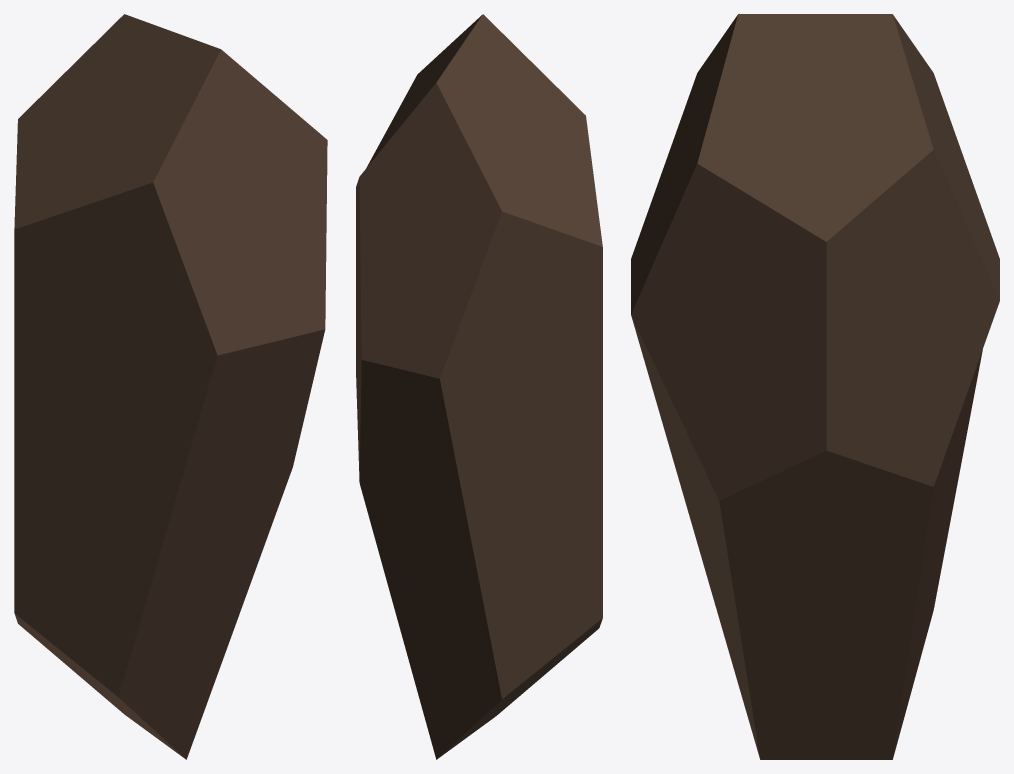
Rendered from Rock_Floor1_Shard2.fbx.
3 views of the same model, side by side, from view 1: azimuth 30°, elevation 25°; view 2: azimuth 150°, elevation 25°; view 3: azimuth 270°, elevation 25° (orthographic). The views are drawn at different scales.
Parts seen in each view (by area): view 1: Rock_Floor1_Shard2; view 2: Rock_Floor1_Shard2; view 3: Rock_Floor1_Shard2.
Boxes of the visible parts, bbox=[...] form: Rock_Floor1_Shard2: bbox=[14, 14, 327, 759]; Rock_Floor1_Shard2: bbox=[356, 14, 602, 759]; Rock_Floor1_Shard2: bbox=[631, 14, 999, 759].
Bounding box in the file's own units: 49.05 × 131 × 57.67.
